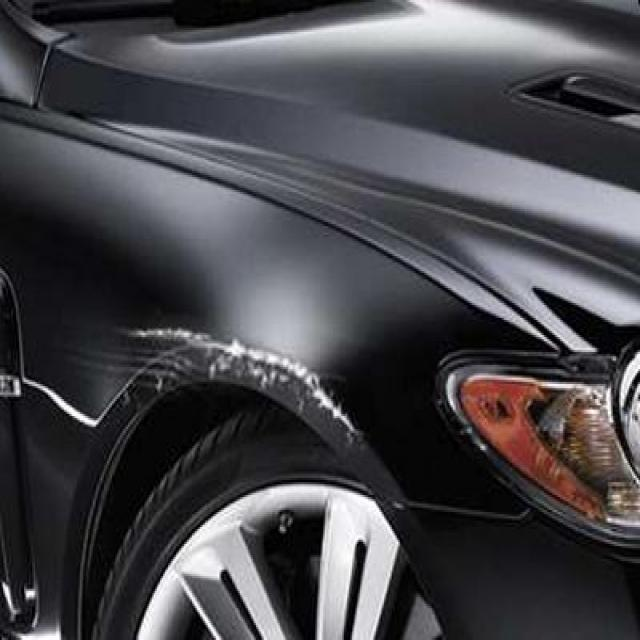scratch: (80, 300, 370, 460)
